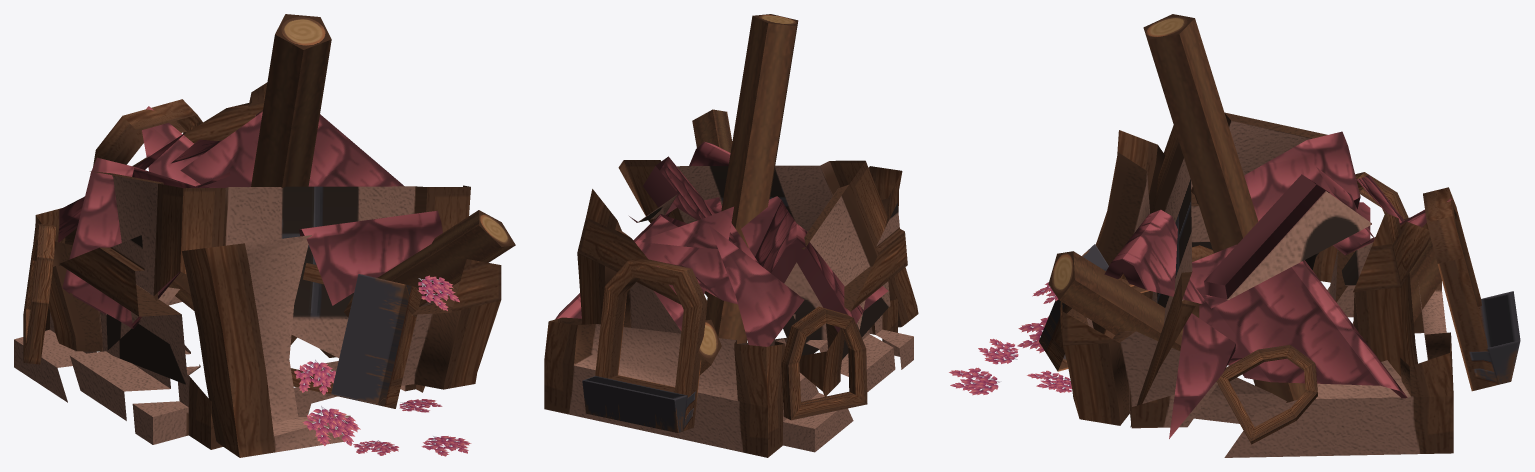
File: House6Pile.fbx
3 views of the same model, side by side, from view 1: azimuth 30°, elevation 25°; view 2: azimuth 150°, elevation 25°; view 3: azimuth 270°, elevation 25° (orthographic). The views are drawn at different scales.
Parts seen in each view (by area): view 1: Pile; view 2: Pile; view 3: Pile.
Part boxes in pixels (x1,y1,x2,y2): Pile: (14,14,515,457); Pile: (544,14,918,457); Pile: (949,14,1520,457).
Bounding box in the file's own units: 24.94 × 27.12 × 35.07.
